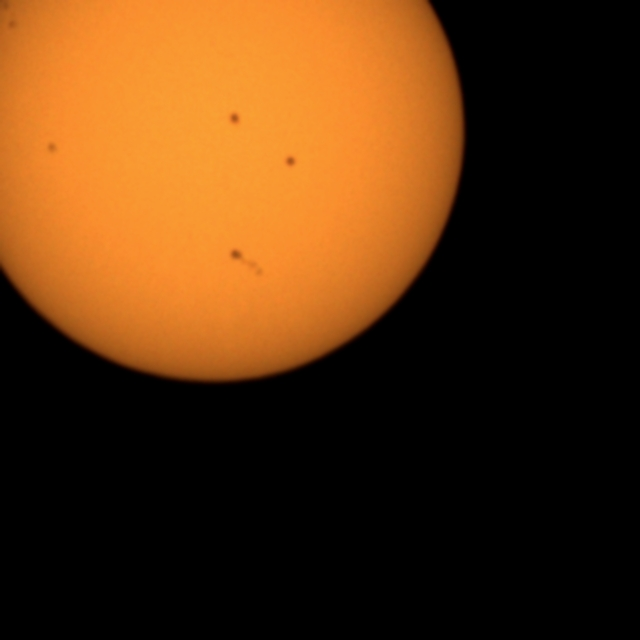sunspot: (227, 246, 268, 281), (282, 152, 300, 172), (226, 109, 243, 129), (44, 140, 60, 158), (4, 17, 19, 33)
